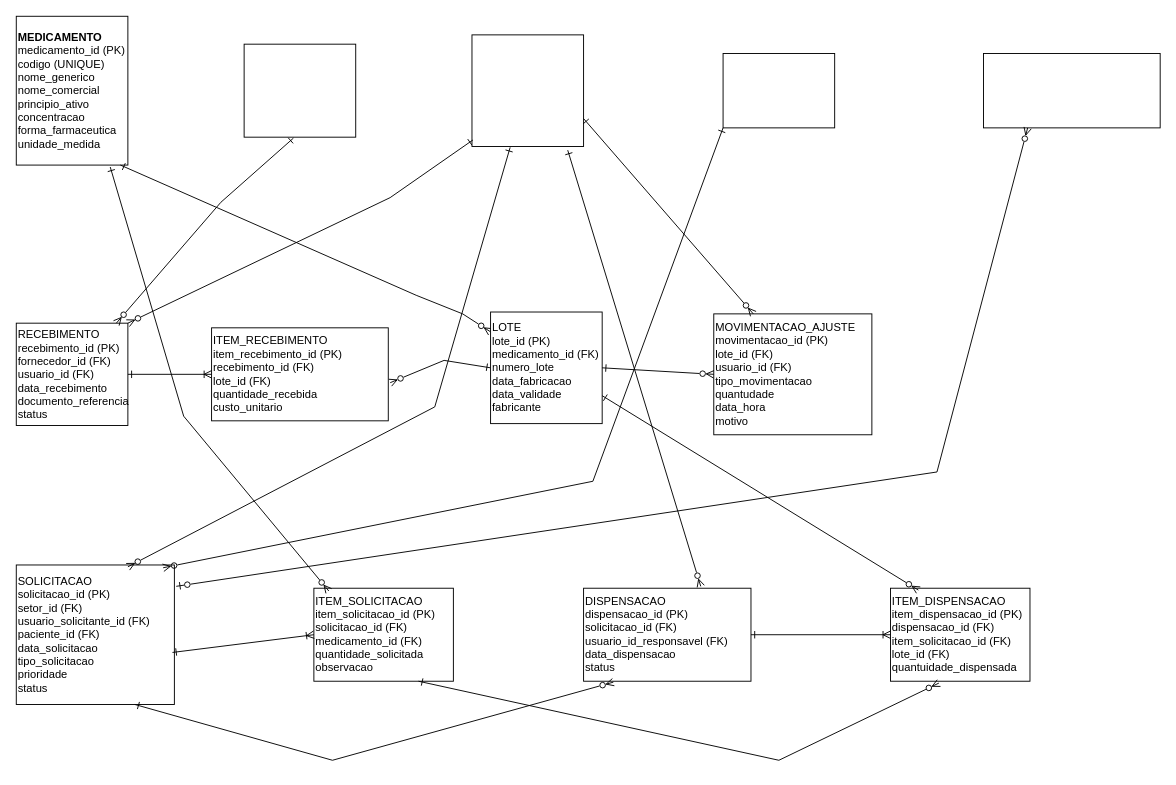
Some shapes in this 1176 by 785 pixel diagram are drawn without their labels. The shapes that lost their labels are listed below. From the top down, each one's centre as x and y in pixels, then its label:
pixel 299 90: FORNECEDOR fornecedor_id (PK) razao_social CNPJ (UNIQUE) telefone email
pixel 527 90: USUARIO usuario_id (PK) nome login (UNIQUE) senha_hash perfil ativo
pixel 778 90: SETOR setor_id (PK) nome sigla (UNIQUE) localizacao
pixel 1071 90: PACIENTE paciente_id (PK) numero_prontuario (UNIQUE) nome data_nascimento
